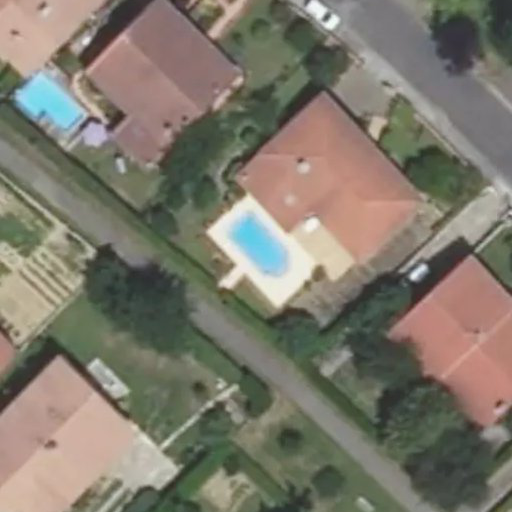pool: (224, 231, 296, 260)
